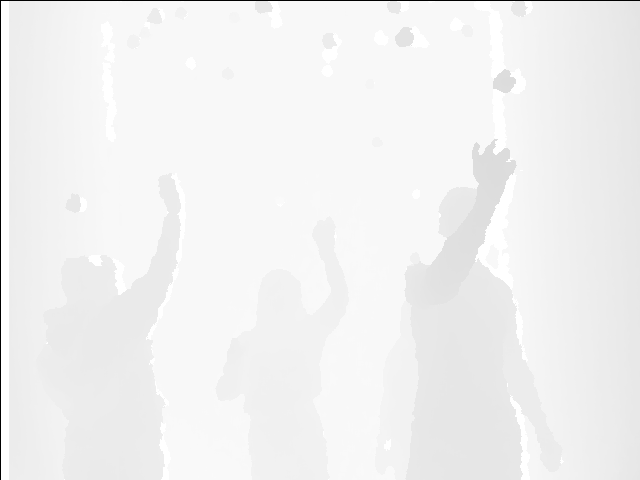hand: (472, 137, 522, 191), (153, 172, 189, 219), (310, 214, 340, 252)
